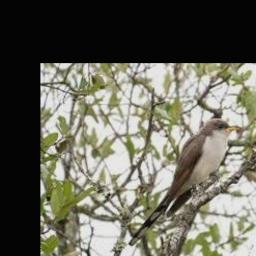Cuckoo: (127, 118, 237, 248)
